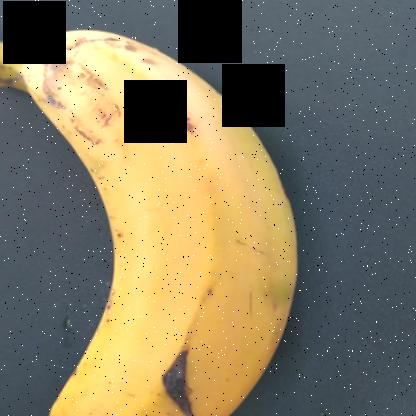ripe: (13, 28, 326, 416)
